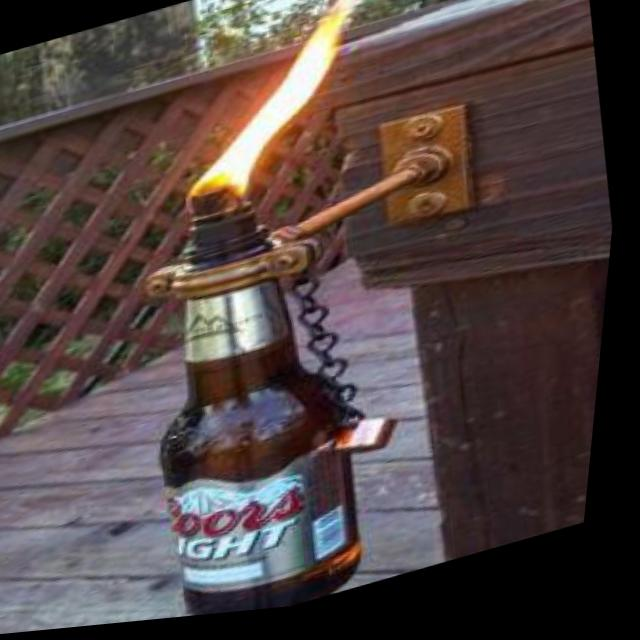Fire: (145, 0, 408, 225)
